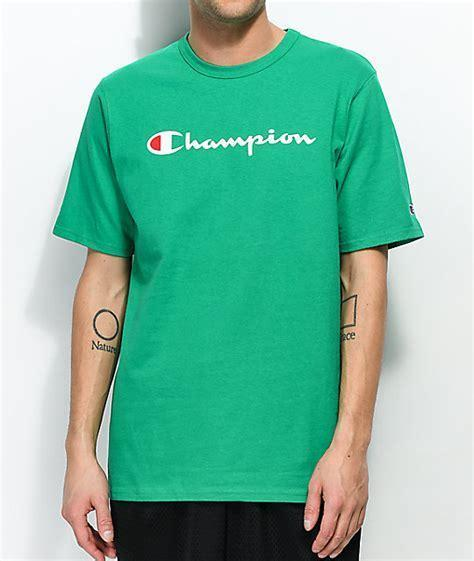Tshirt: (53, 28, 422, 506)
